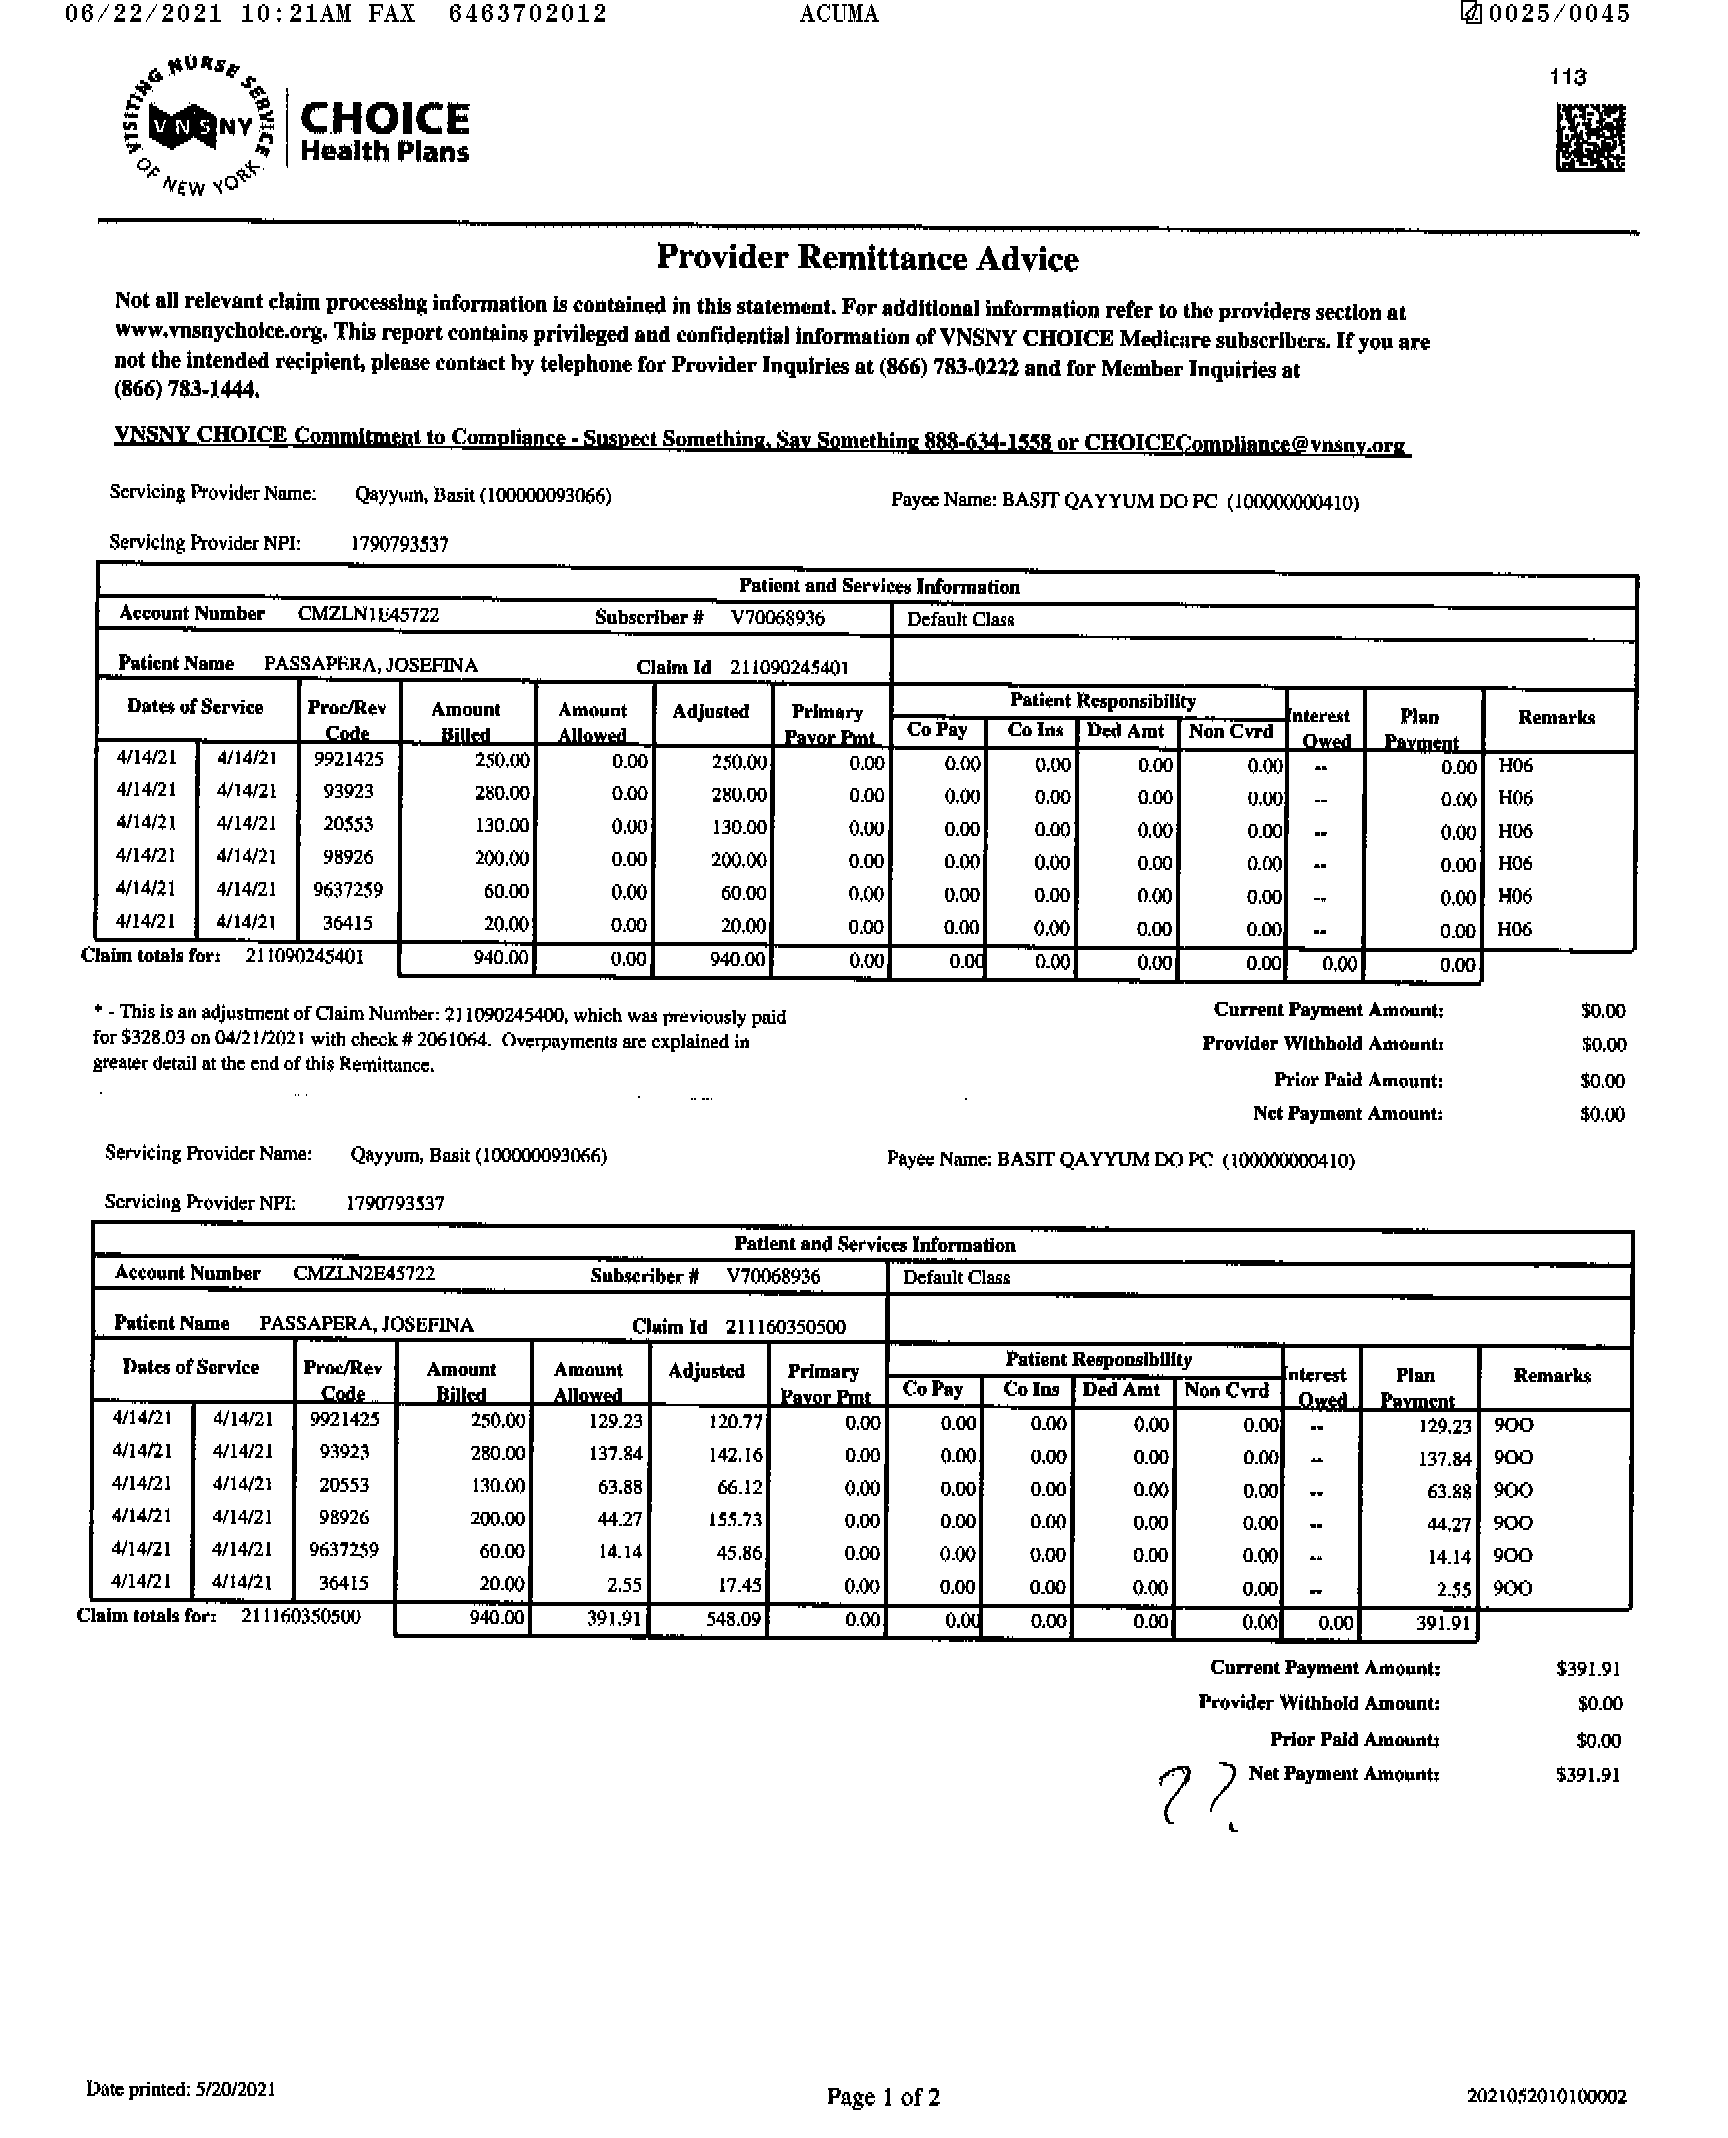table: (78, 1214, 1649, 1653), (85, 548, 1643, 984)
